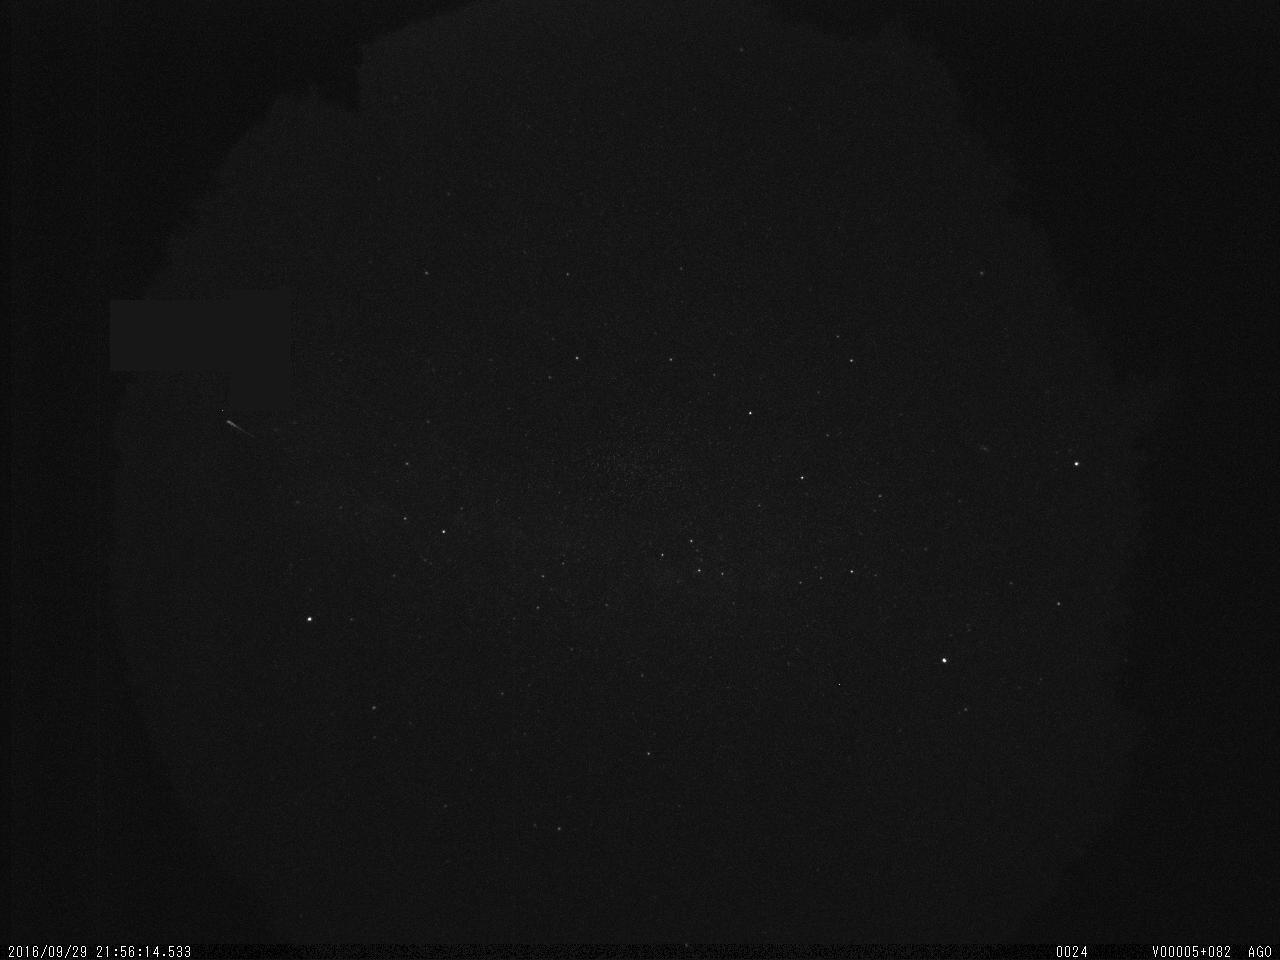meteor: (222, 415, 261, 447)
